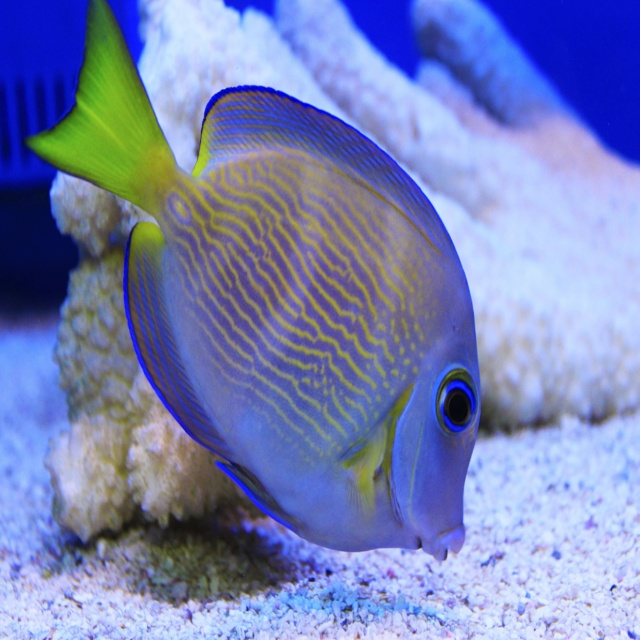Fish: (55, 49, 492, 611)
